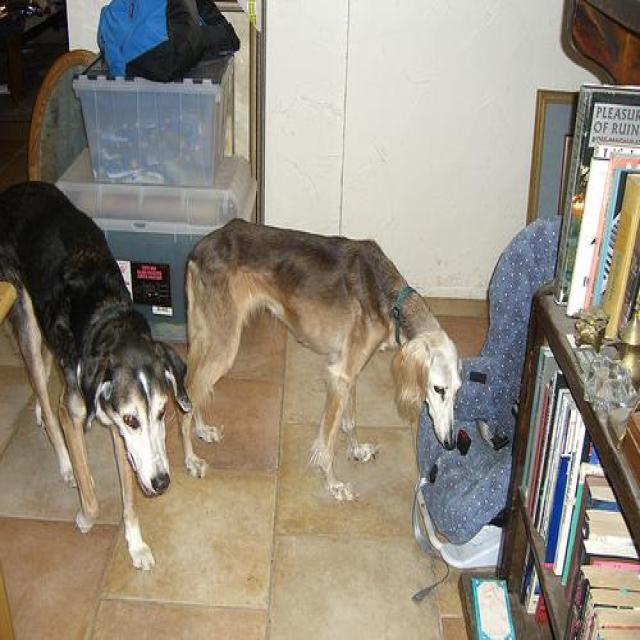saluki: (179, 220, 460, 507), (0, 179, 195, 572)
